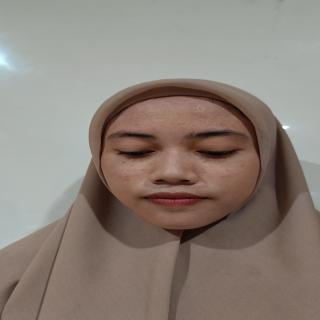Sedih: (92, 87, 282, 235)
